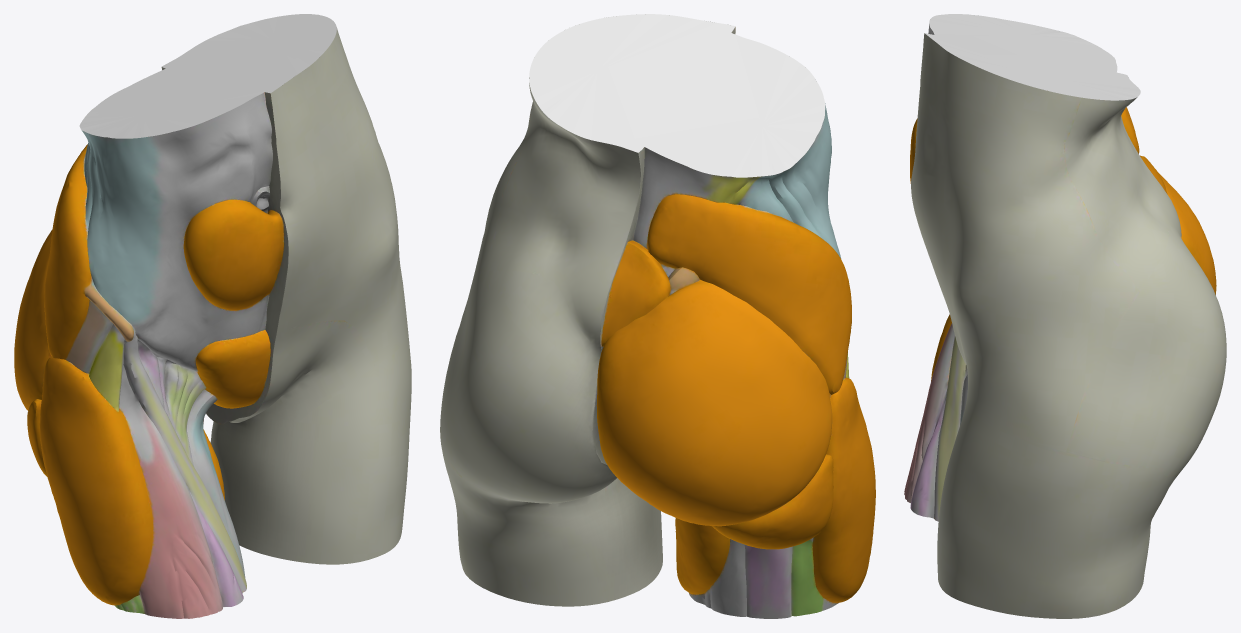
File: 人物其它_20260324184305_opt.glb
3 renders of one model, left to right at view 1: azimuth 30°, elevation 25°; view 2: azimuth 150°, elevation 25°; view 3: azimuth 270°, elevation 25°, orthographic. The views are drawn at different scales.
Parts seen in each view (by area): view 1: workUv, workUv001; view 2: workUv, workUv001; view 3: workUv, workUv001.
Part boxes in pixels (box(x1,y1,x2,y2)): workUv: box(14, 27, 411, 618); workUv001: box(79, 14, 336, 613); workUv: box(440, 21, 875, 618); workUv001: box(529, 14, 825, 177); workUv: box(904, 24, 1226, 618); workUv001: box(924, 14, 1140, 100).
Size of the model in its own units: 0.3022 by 0.4 by 0.2314.
2 materials, 1 textured.
